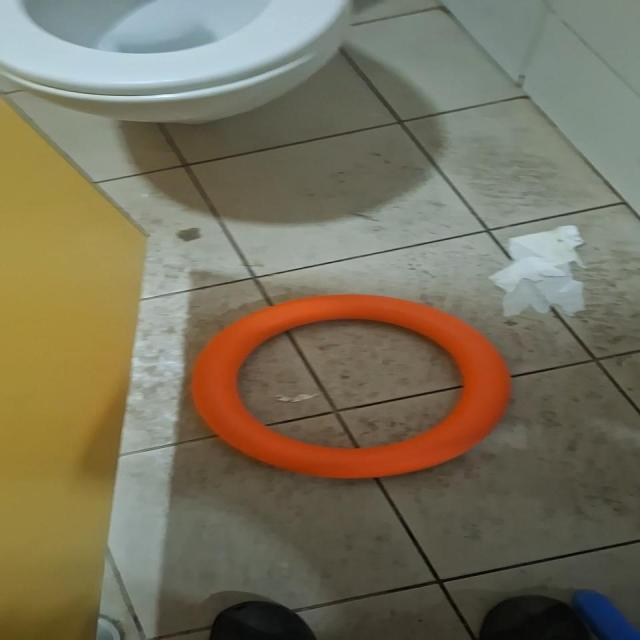note: (188, 292, 513, 480)
